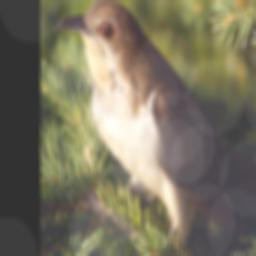Cuckoo: (53, 0, 256, 250)
